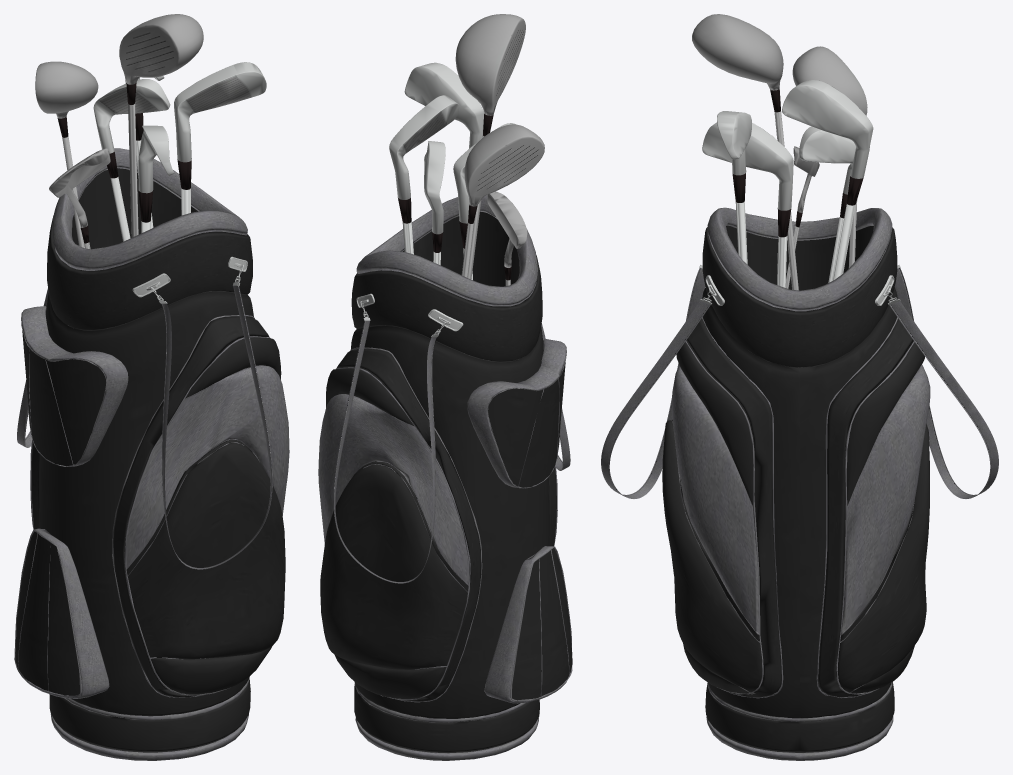
File: bag.glb
The picture shows the model from 3 angles, left to right: view 1: azimuth 30°, elevation 25°; view 2: azimuth 150°, elevation 25°; view 3: azimuth 270°, elevation 25°; orthographic projection. The views are drawn at different scales.
Visible parts, largest first — view 1: golf_bag_straps_golf_bag_0, golf_bag_straps_golf_bag_metal_0; view 2: golf_bag_straps_golf_bag_0, golf_bag_straps_golf_bag_metal_0; view 3: golf_bag_straps_golf_bag_0, golf_bag_straps_golf_bag_metal_0.
Boxes of the visible parts, bbox=[...] form: golf_bag_straps_golf_bag_0: bbox=[14, 148, 289, 760]; golf_bag_straps_golf_bag_metal_0: bbox=[35, 14, 266, 303]; golf_bag_straps_golf_bag_0: bbox=[318, 195, 572, 760]; golf_bag_straps_golf_bag_metal_0: bbox=[356, 14, 544, 337]; golf_bag_straps_golf_bag_0: bbox=[601, 207, 998, 760]; golf_bag_straps_golf_bag_metal_0: bbox=[692, 14, 900, 305].
Size of the model in its own units: 0.6739 by 2.1 by 1.09.
2 materials, 2 textured.
